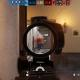Character: (32, 41, 45, 51)
Head: (39, 41, 41, 43)
